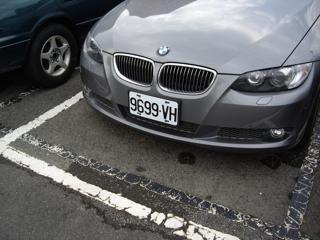plate: (126, 89, 180, 129)
